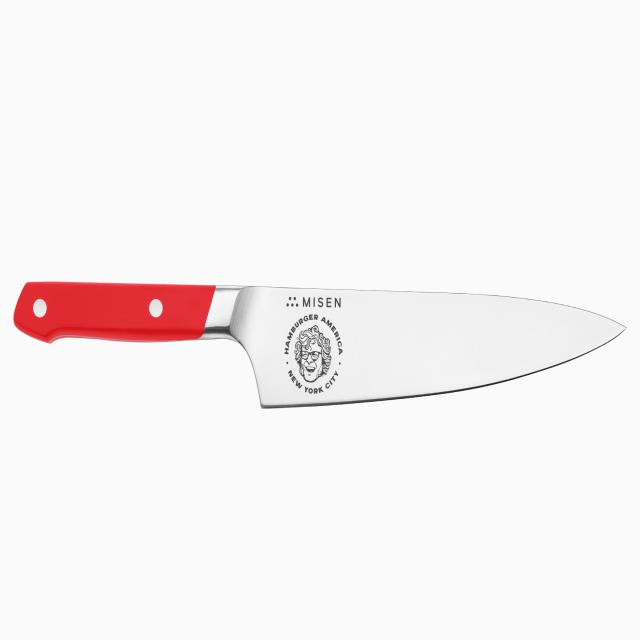Knife: (0, 255, 630, 443)
